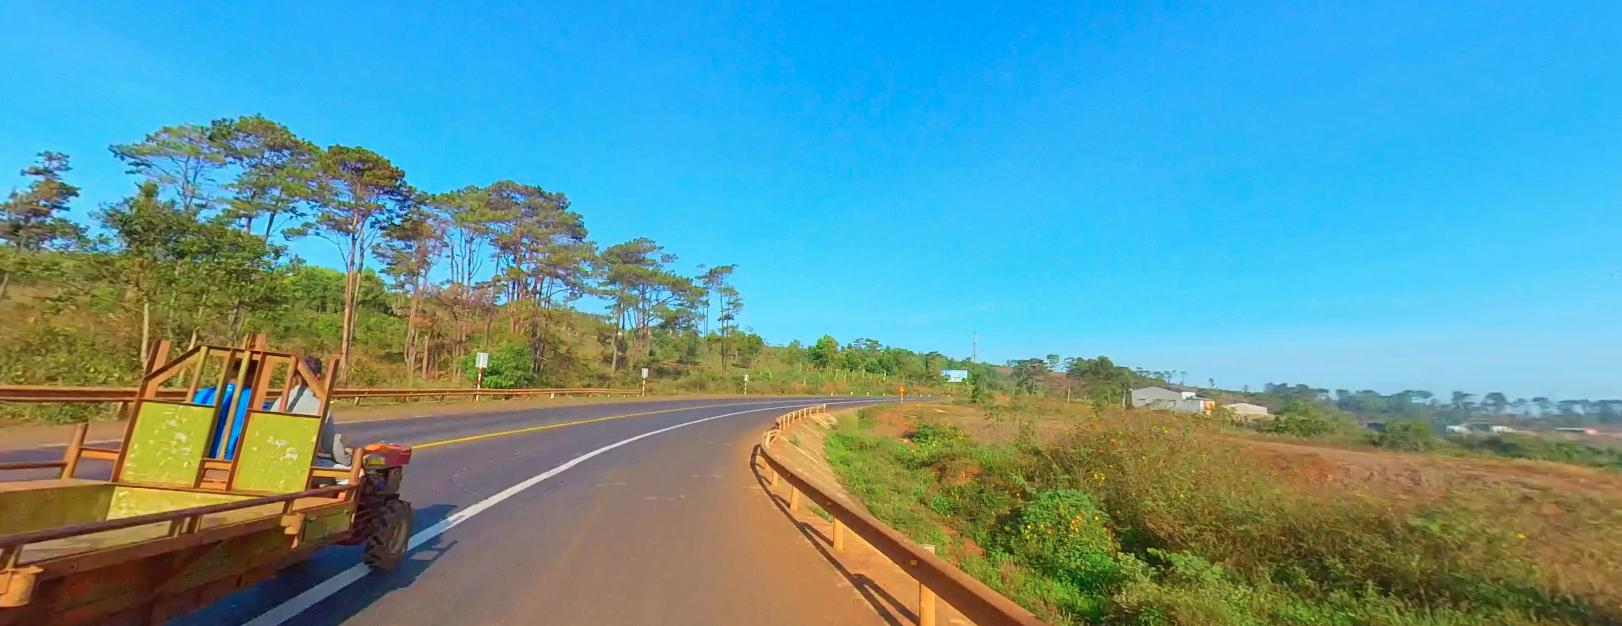Nguy hiem: (896, 382, 906, 391)
